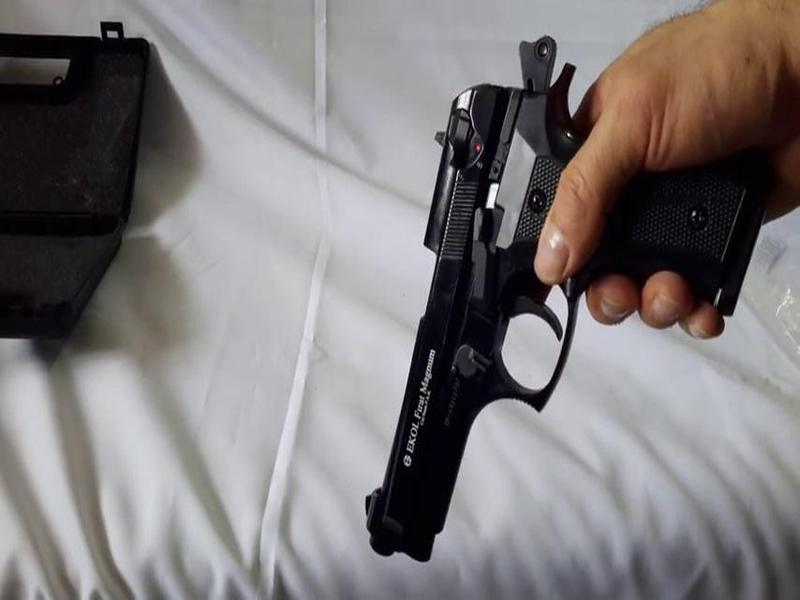Pistola: (281, 48, 736, 584)
